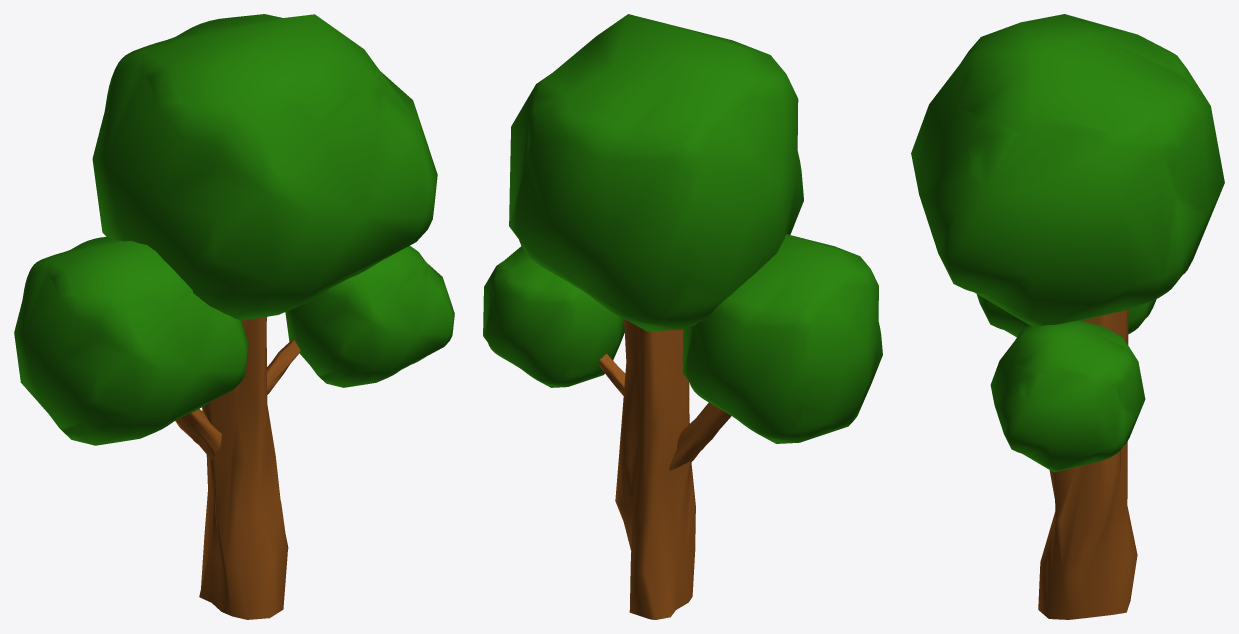
The model's file is tree4_new.fbx.
3 views of the same model, side by side, from view 1: azimuth 30°, elevation 25°; view 2: azimuth 150°, elevation 25°; view 3: azimuth 270°, elevation 25° (orthographic). The views are drawn at different scales.
Parts seen in each view (by area): view 1: Object001; view 2: Object001; view 3: Object001.
Boxes of the visible parts, x1=… form: Object001: x1=14, y1=14, x2=454, y2=619; Object001: x1=483, y1=14, x2=882, y2=619; Object001: x1=911, y1=14, x2=1224, y2=619.
Size of the model in its own units: 84.35 by 118 by 57.94.
